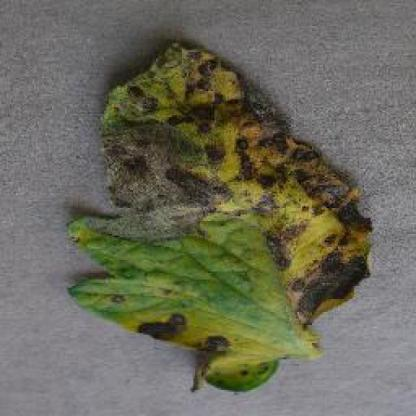Tomato_Blight: (70, 42, 373, 391)
